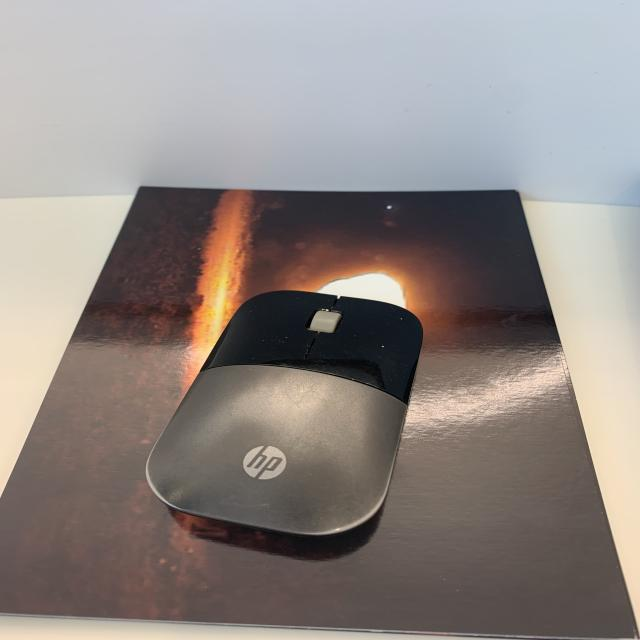Mouse: (142, 281, 423, 552)
